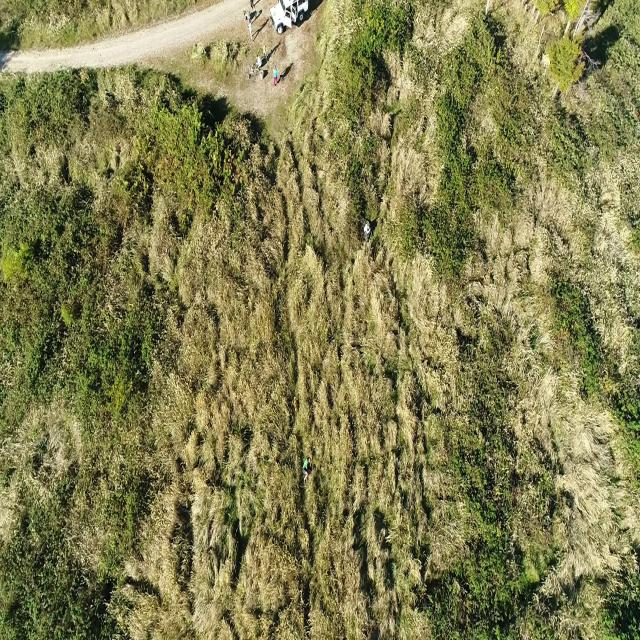person: (302, 456, 311, 483), (363, 223, 371, 242), (248, 20, 254, 42), (272, 64, 278, 86), (262, 43, 267, 61), (255, 53, 261, 68), (243, 7, 247, 20), (246, 10, 250, 23), (249, 0, 253, 8)
